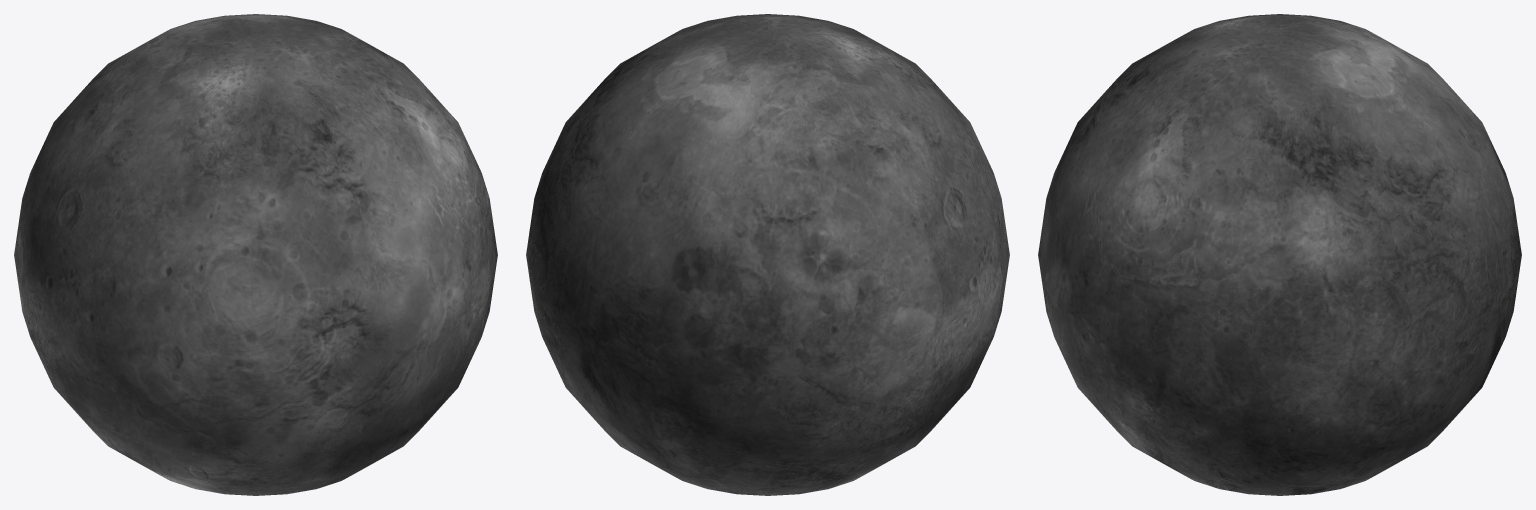
File: pallas.glb
The picture shows the model from 3 angles, left to right: view 1: azimuth 30°, elevation 25°; view 2: azimuth 150°, elevation 25°; view 3: azimuth 270°, elevation 25°; orthographic projection.
Visible parts, largest first — view 1: Object_2; view 2: Object_2; view 3: Object_2.
Part boxes in pixels (x1=…): Object_2: x1=14, y1=14, x2=497, y2=495; Object_2: x1=526, y1=14, x2=1009, y2=495; Object_2: x1=1038, y1=14, x2=1521, y2=495.
Bounding box in the file's own units: 1 × 1 × 1.
1 material, 1 textured.
